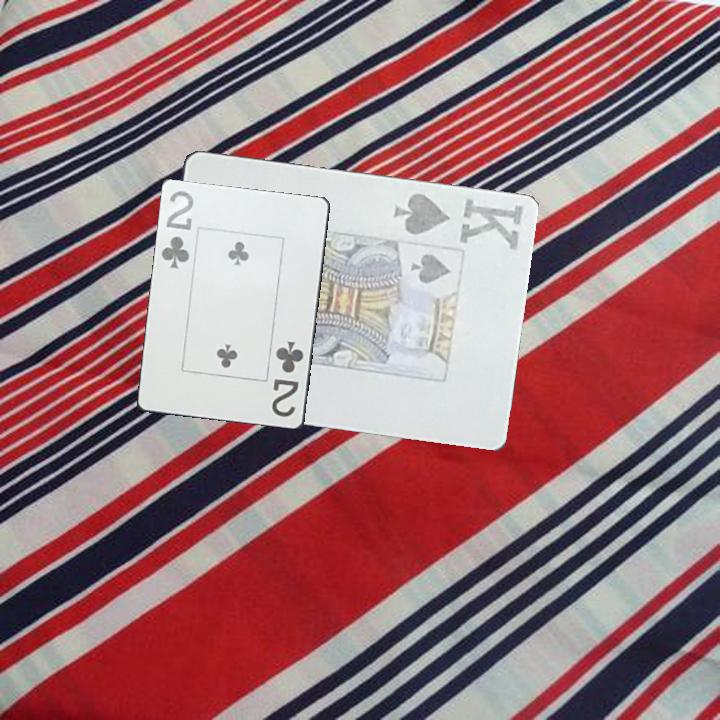2c: (158, 187, 197, 272), (268, 338, 307, 420)
Ks: (390, 189, 526, 254)
